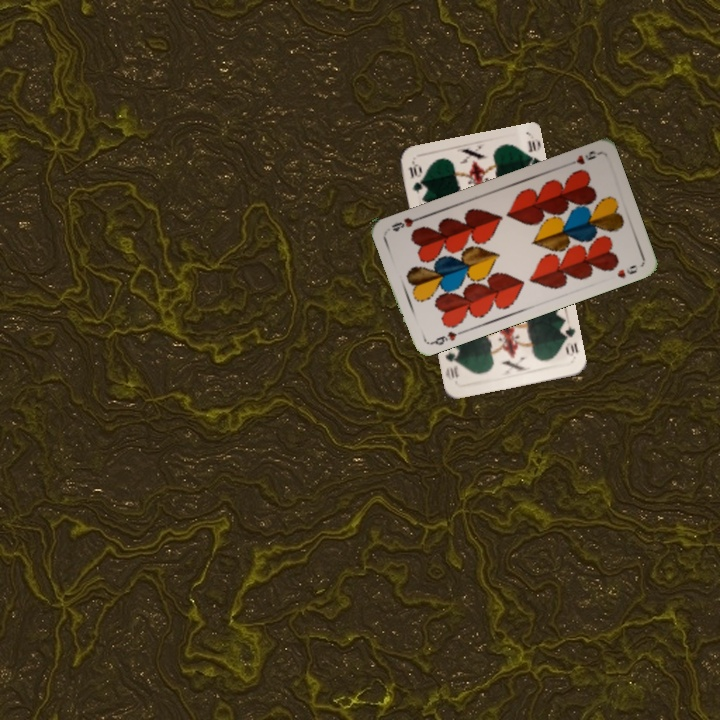G10: (558, 323, 581, 359), (405, 159, 425, 197)
H9: (562, 147, 601, 169), (426, 327, 465, 348)
